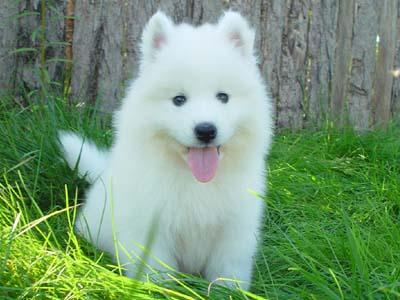dog: (115, 7, 284, 174)
